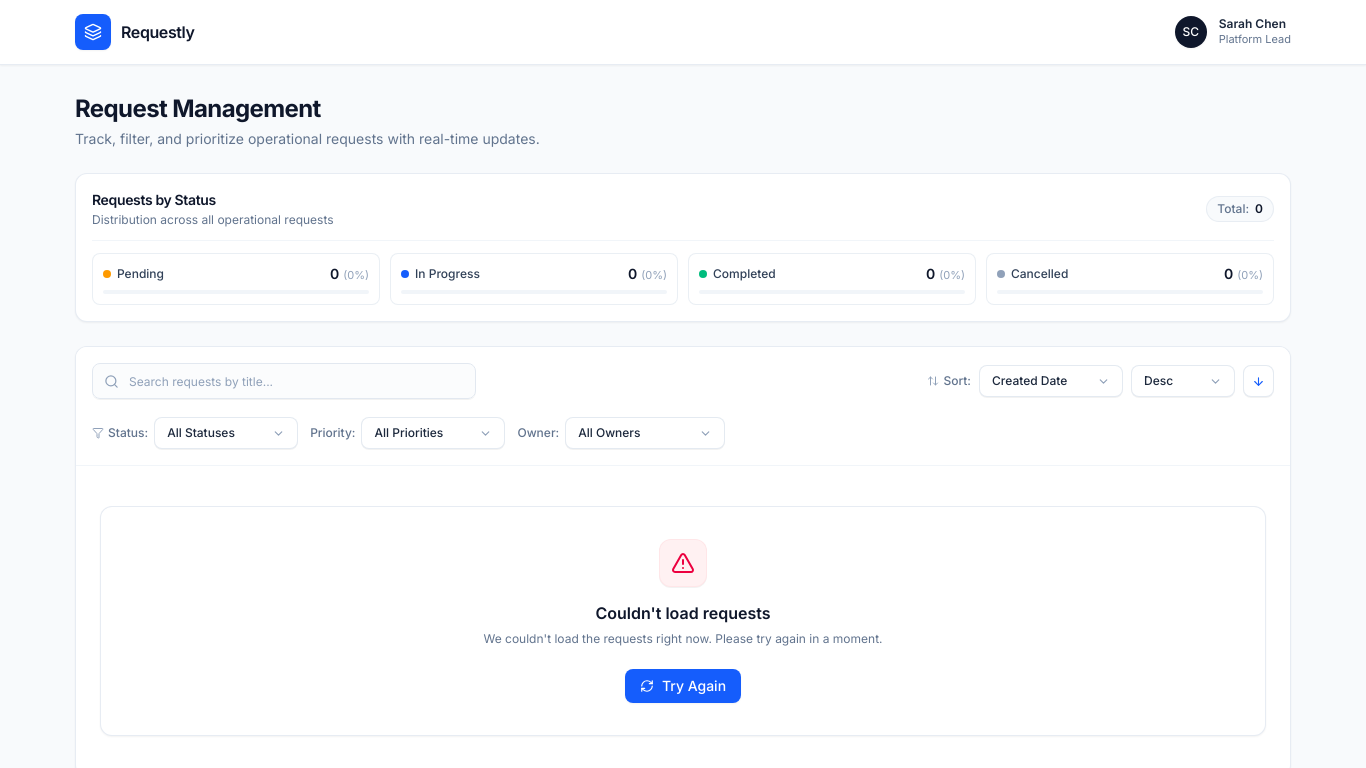
Test: Request Management Dashboard Integration Tests › handles API error gracefully and retries upon user action
The image size is (1366, 768).
Expected: the message with test id "error-state" is shown, [100,506,1266,736]
Click the button with aria-label "Retry Request" at (683, 686), box [625,668,741,702]
(page scrolled)
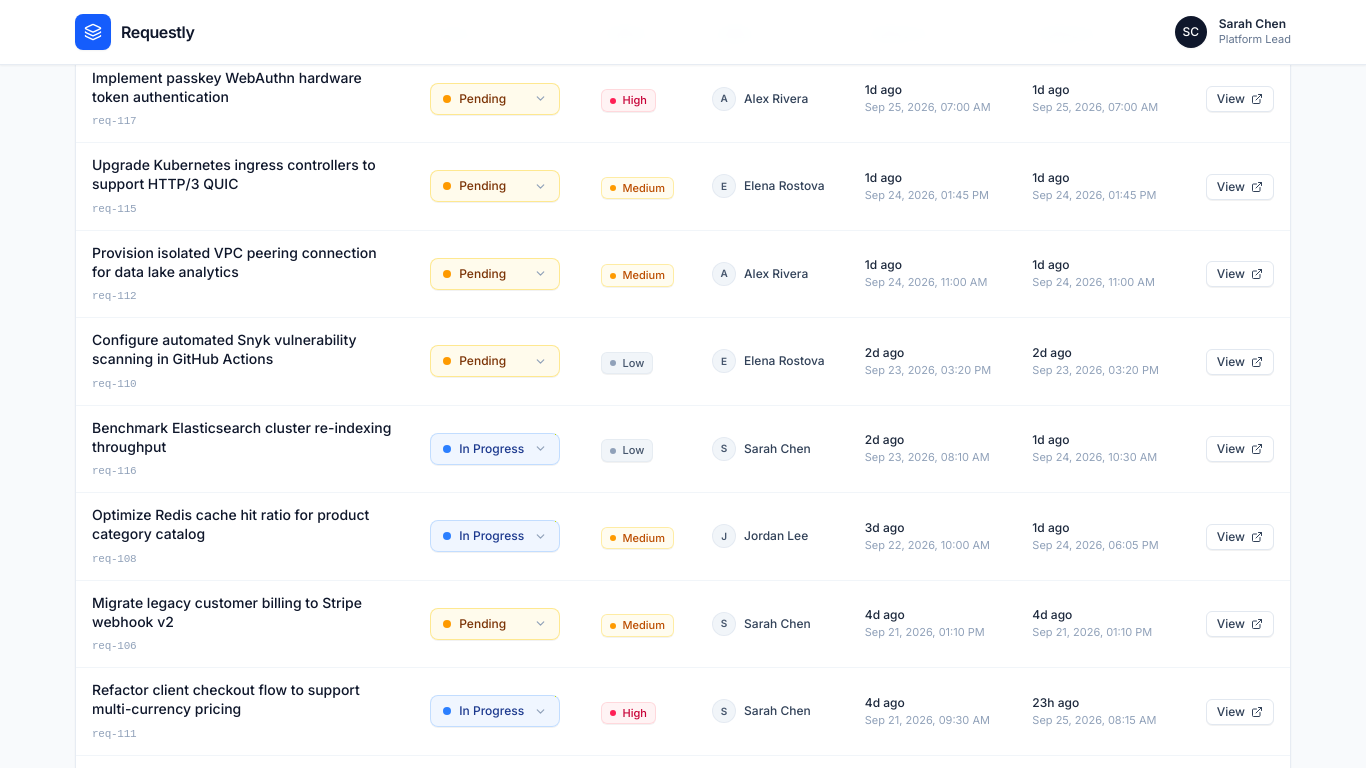
Expected: the table with test id "request-table" is shown
